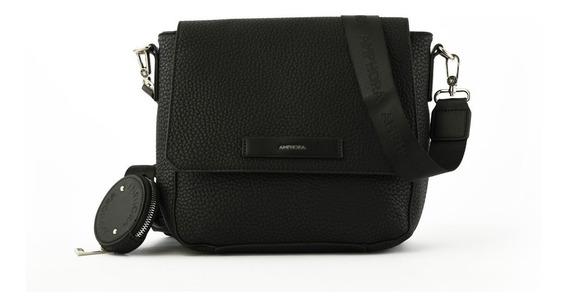cartera: (88, 12, 475, 259)
